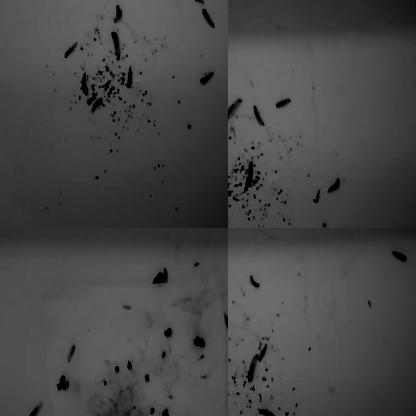PtecticusTenebrifer: (251, 104, 266, 130), (110, 30, 122, 60), (228, 97, 243, 121), (248, 353, 259, 382), (64, 40, 78, 60), (202, 8, 215, 29), (199, 70, 216, 85), (327, 177, 342, 194), (66, 341, 77, 364), (274, 97, 294, 109), (29, 400, 44, 416), (392, 249, 407, 263), (113, 5, 123, 25), (81, 72, 89, 96), (91, 97, 102, 114), (260, 342, 268, 364), (249, 274, 260, 288), (228, 188, 237, 204), (259, 408, 276, 416), (222, 310, 228, 331), (249, 162, 254, 187), (228, 67, 236, 82), (121, 303, 133, 313), (128, 66, 133, 88), (81, 0, 90, 10), (0, 83, 9, 93), (250, 228, 267, 233), (228, 102, 231, 126), (0, 0, 10, 7), (228, 138, 235, 148), (335, 0, 342, 8), (228, 325, 234, 333), (228, 115, 230, 137), (228, 0, 235, 5)
